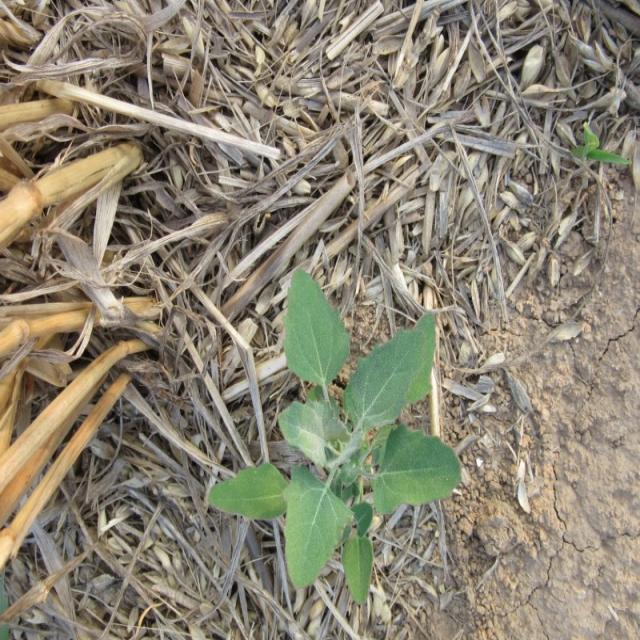ca: (208, 267, 460, 600)
